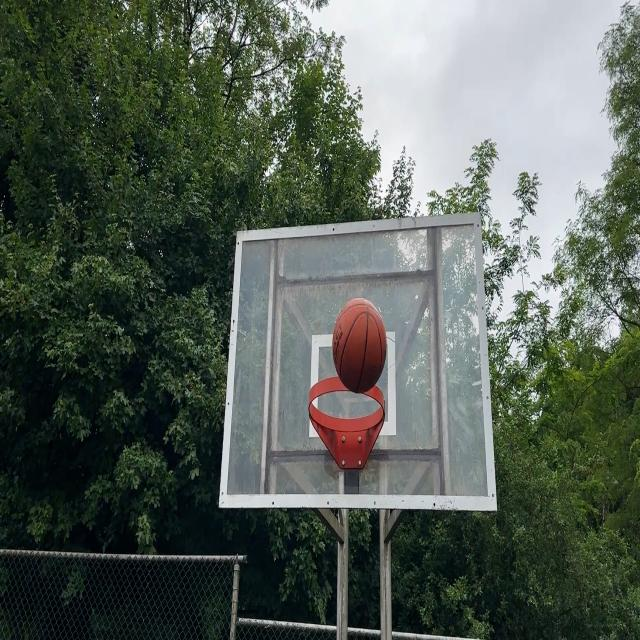rebound_hit: (333, 300, 387, 401)
